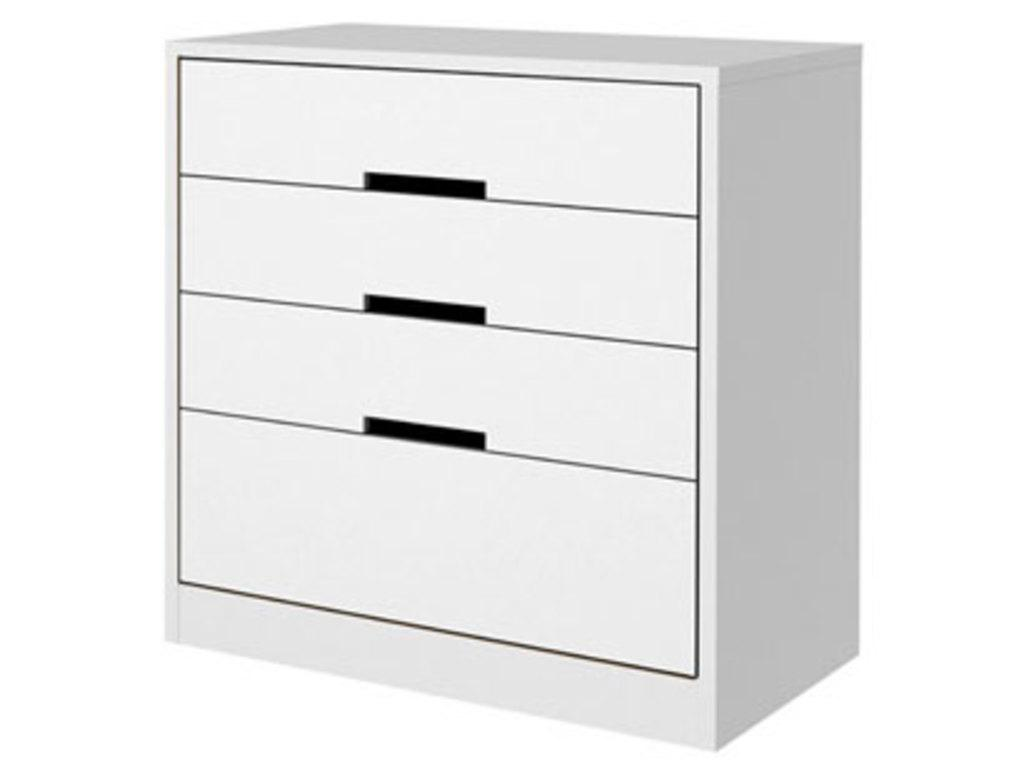cabinet_door: (184, 416, 686, 636), (180, 280, 686, 480), (188, 166, 690, 352), (191, 60, 699, 224)
handle: (350, 280, 492, 336), (356, 408, 494, 460), (354, 168, 502, 212)
